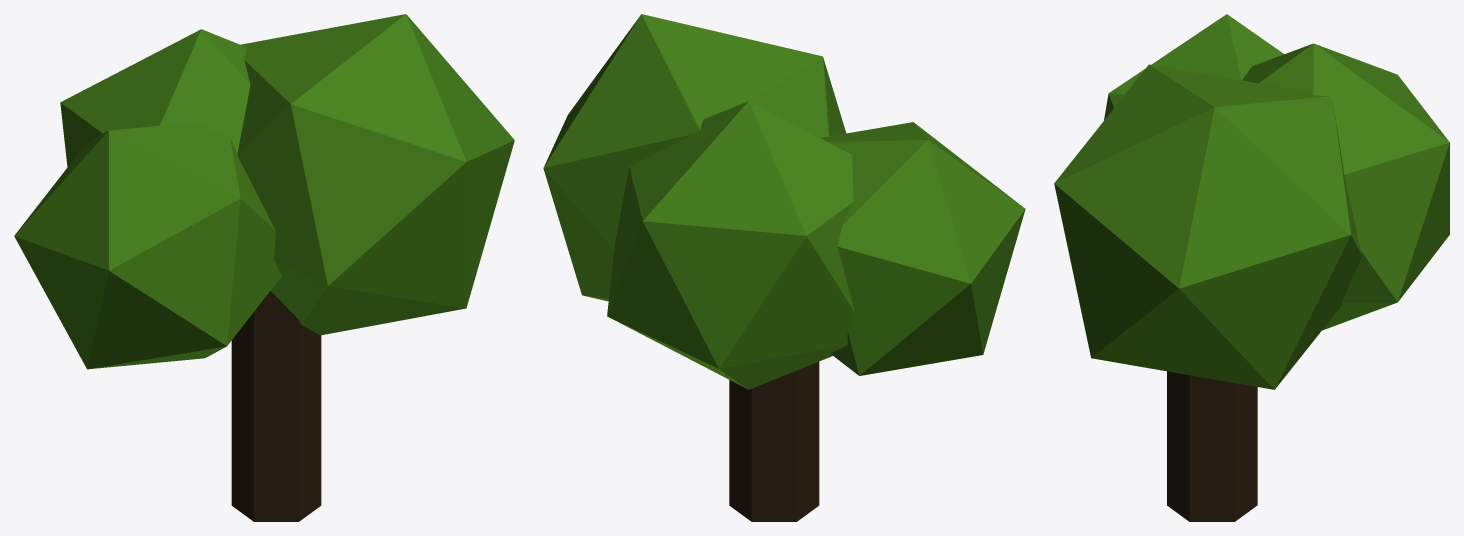
File: Boum_1.fbx
The picture shows the model from 3 angles, left to right: view 1: azimuth 30°, elevation 25°; view 2: azimuth 150°, elevation 25°; view 3: azimuth 270°, elevation 25°; orthographic projection.
Visible parts, largest first — view 1: Bom_2; view 2: Bom_2; view 3: Bom_2.
Part boxes in pixels (bbox=[...]): Bom_2: bbox=[14, 14, 514, 521]; Bom_2: bbox=[543, 14, 1025, 521]; Bom_2: bbox=[1054, 14, 1449, 521].
Bounding box in the file's own units: 0.9456 × 0.9185 × 0.7117.
